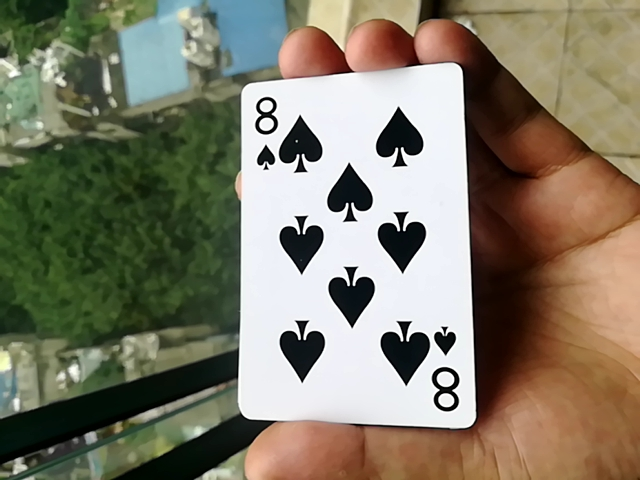ht 8: (232, 56, 464, 435)
